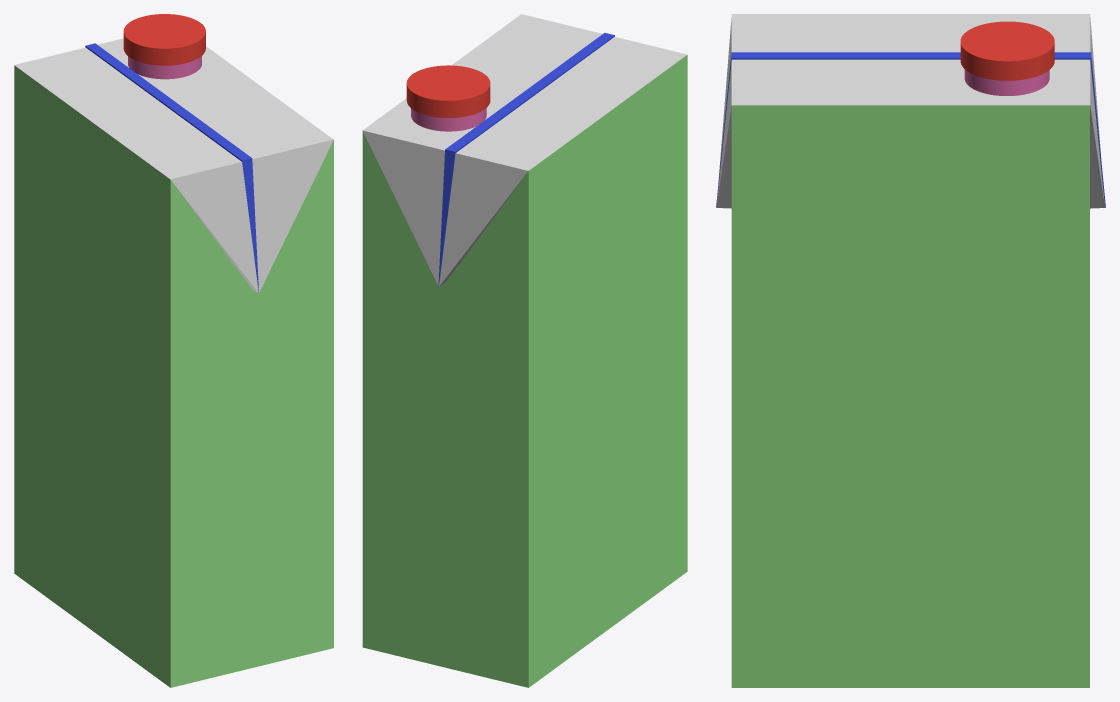
The model's file is Einkaufsladen_Füllmaterial_Milchkarton_Variante_1_Base_Überprüft (1).fbx.
The picture shows the model from 3 angles, left to right: view 1: azimuth 30°, elevation 25°; view 2: azimuth 150°, elevation 25°; view 3: azimuth 270°, elevation 25°; orthographic projection. The views are drawn at different scales.
Parts seen in each view (by area): view 1: Karton, Deckel, Schraubverschluss; view 2: Karton, Deckel, Schraubverschluss; view 3: Karton, Deckel, Schraubverschluss.
Part boxes in pixels (x1=…): Karton: x1=14, y1=38, x2=333, y2=687; Deckel: x1=123, y1=14, x2=205, y2=65; Schraubverschluss: x1=128, y1=56, x2=201, y2=79; Karton: x1=362, y1=14, x2=687, y2=687; Deckel: x1=406, y1=65, x2=490, y2=117; Schraubverschluss: x1=411, y1=108, x2=486, y2=131; Karton: x1=716, y1=14, x2=1105, y2=687; Deckel: x1=960, y1=21, x2=1054, y2=80; Schraubverschluss: x1=964, y1=69, x2=1049, y2=95.
Bounding box in the file's own units: 410 × 1296 × 739.
